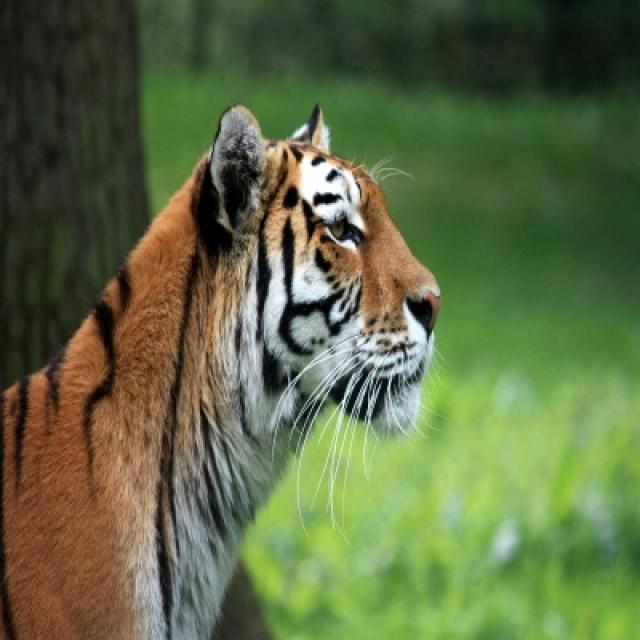Tiger: (0, 106, 438, 638)
